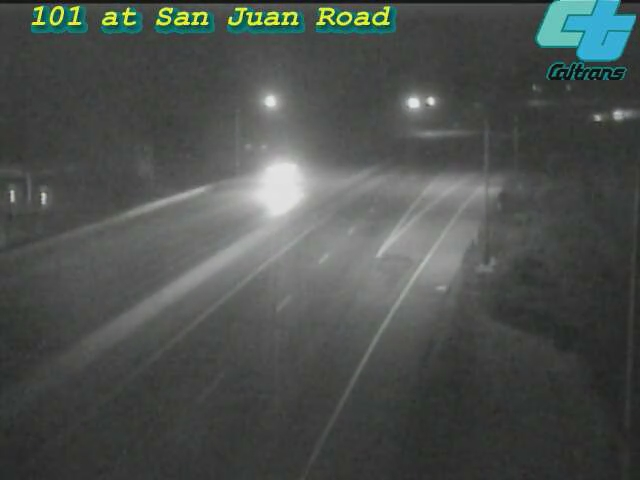vehicle: (234, 146, 314, 226), (596, 90, 640, 140)
